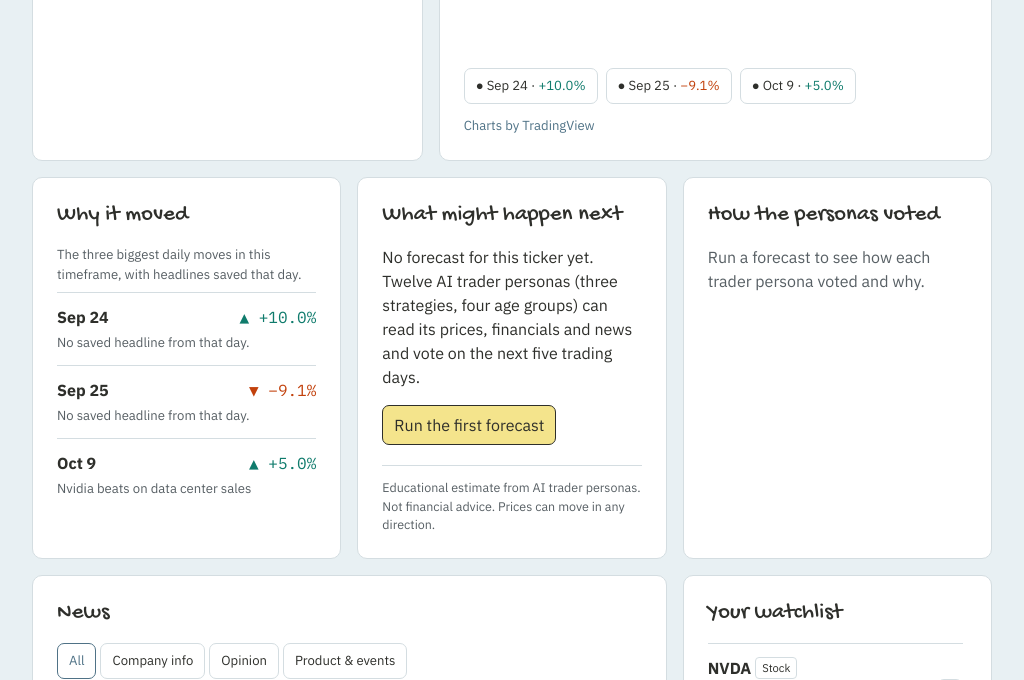
Test: running a forecast › shows the hourly limit message
(page scrolled)
Click the button "Run the first forecast" at (469, 425), box [382,405,556,445]
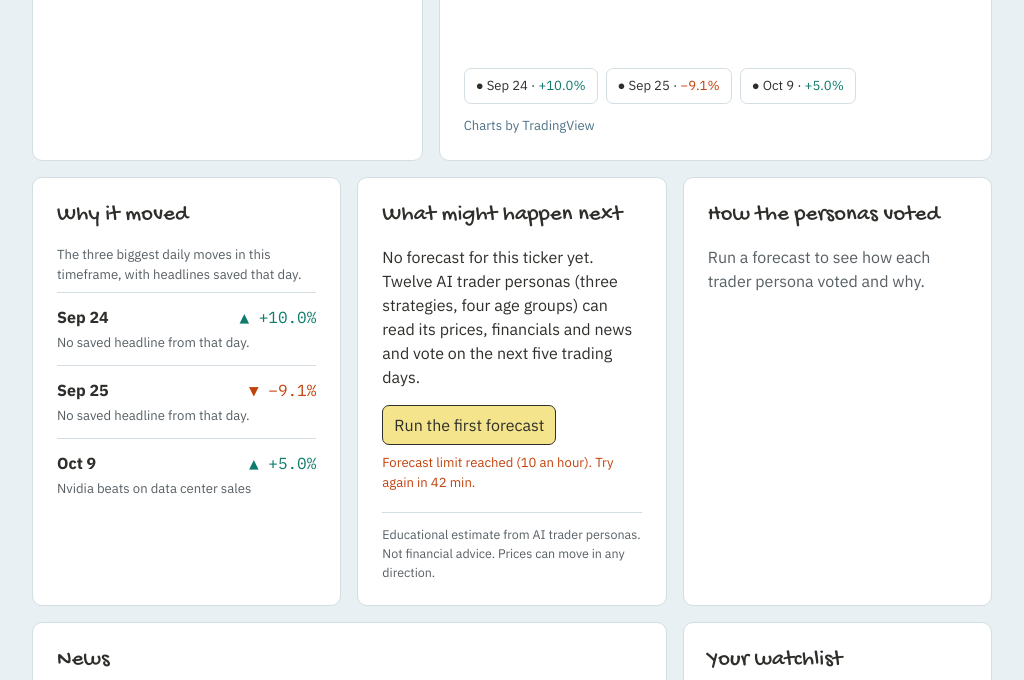
Expected: the text "Forecast limit reached (10 an hour). Try again in 42 min." is shown, [382,453,642,492]
